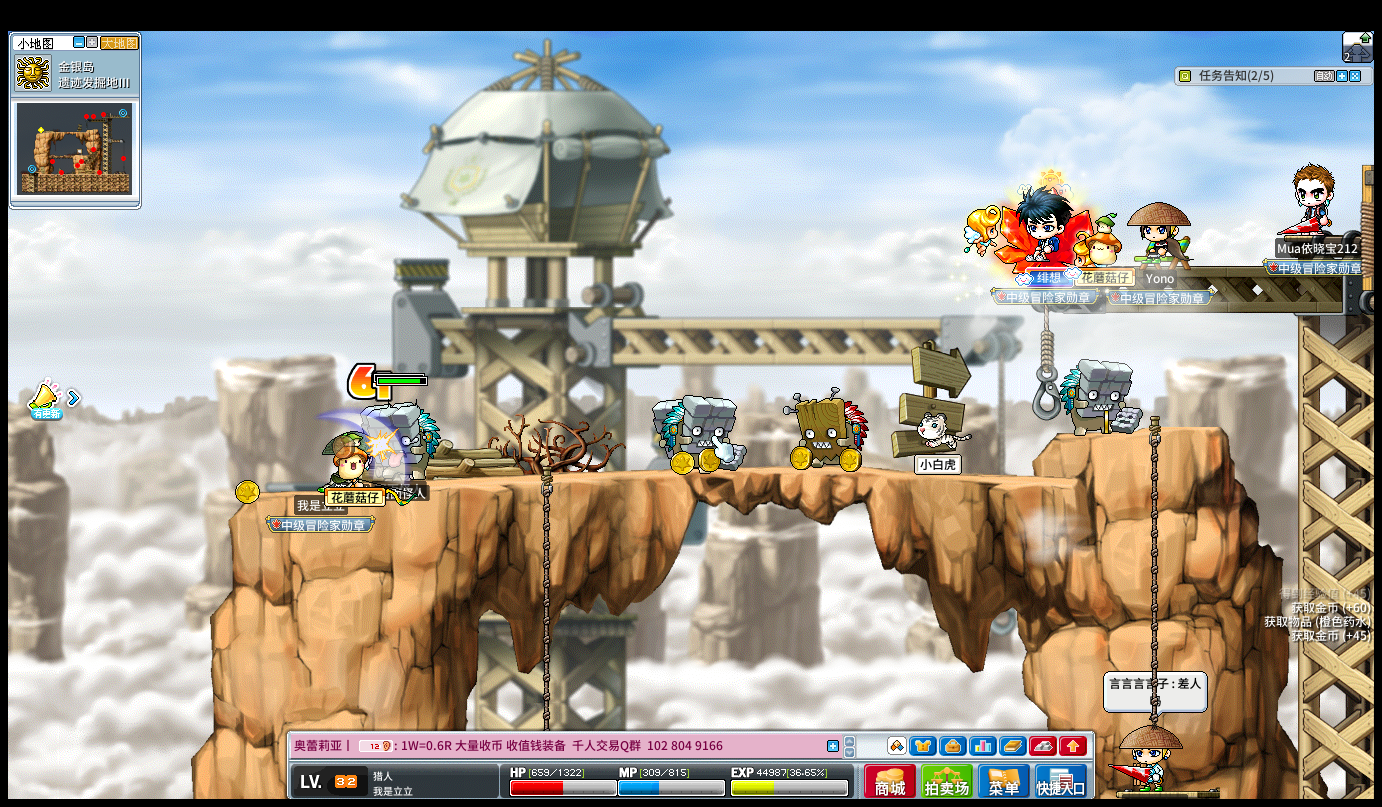floor: (257, 459, 1126, 492), (1057, 423, 1226, 438)
monster: (788, 389, 867, 470), (657, 393, 736, 472), (1059, 358, 1132, 436), (388, 404, 440, 485)
rope: (1145, 412, 1161, 725), (539, 463, 552, 726), (1040, 306, 1053, 385)
